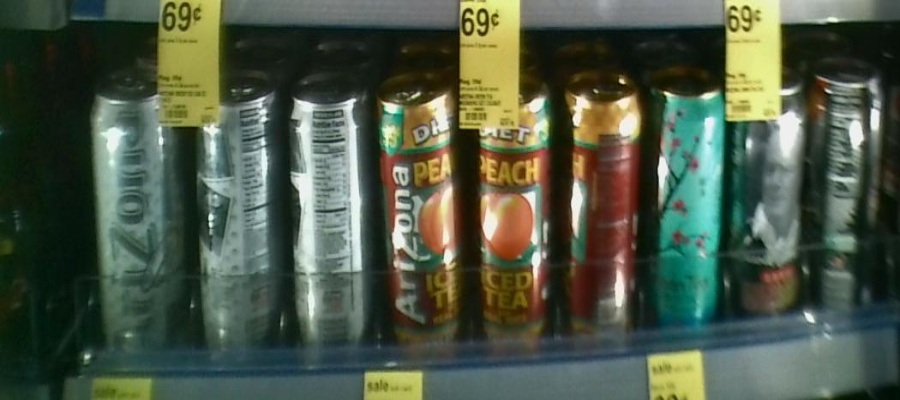bottle: (87, 69, 187, 365), (192, 61, 287, 363), (373, 70, 468, 366), (559, 70, 645, 359), (471, 70, 555, 359), (291, 70, 372, 361), (725, 57, 807, 334), (648, 62, 721, 344), (810, 54, 885, 322)
